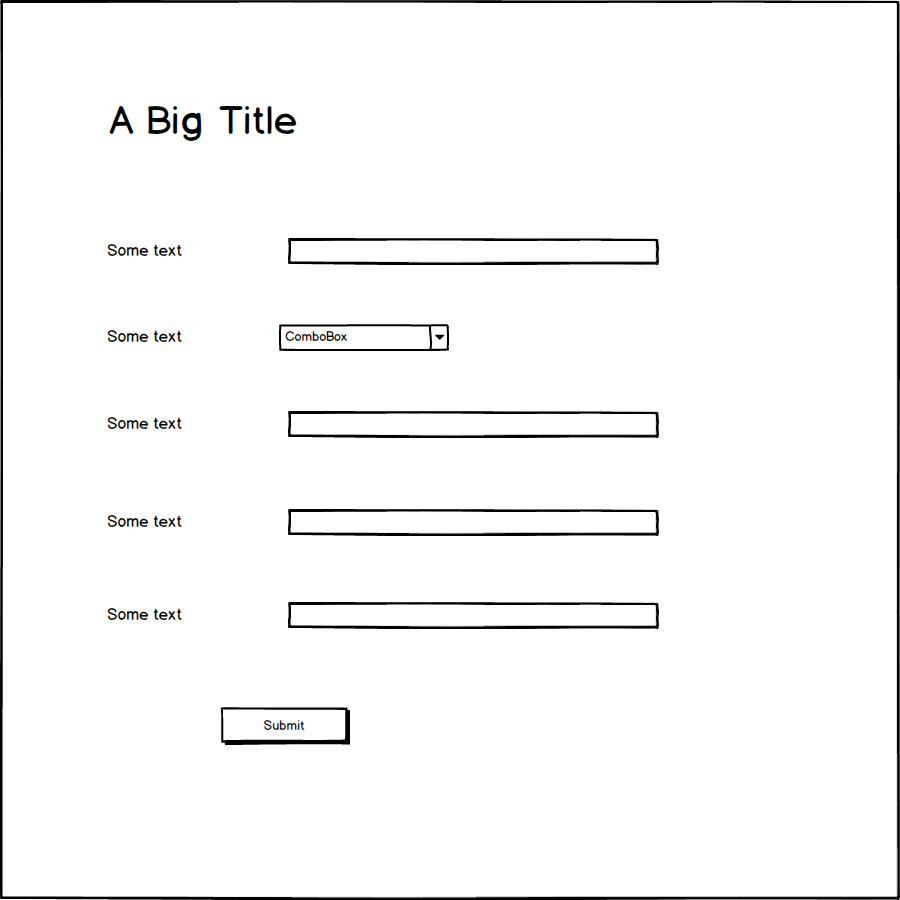button: (215, 703, 356, 748)
h1: (98, 96, 308, 149)
input: (286, 504, 664, 540), (285, 406, 664, 441), (283, 236, 665, 269), (282, 599, 663, 632)
label: (101, 408, 187, 438), (102, 321, 193, 349), (100, 601, 189, 628), (102, 508, 187, 534), (102, 238, 185, 263)
select_box: (275, 321, 453, 354)
